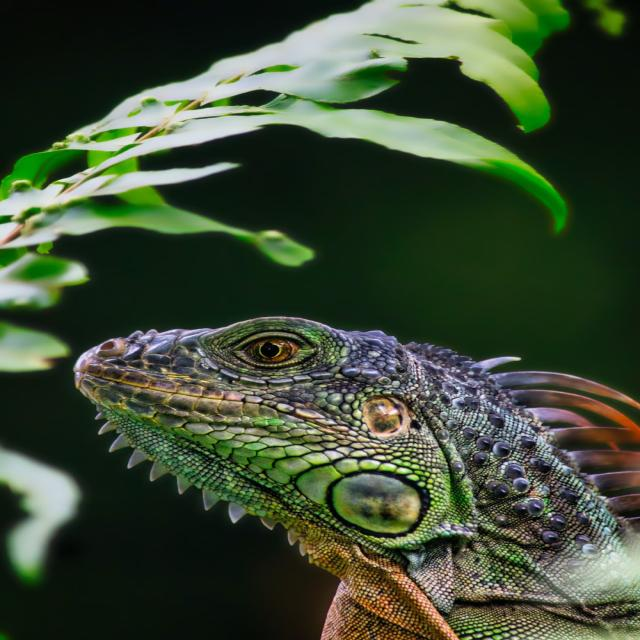Lizard: (71, 313, 640, 640)
